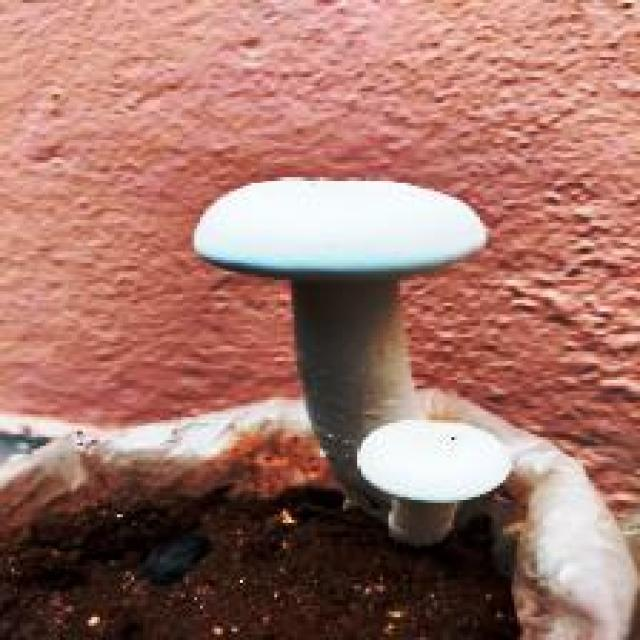field-mushroom: (188, 172, 488, 508)
